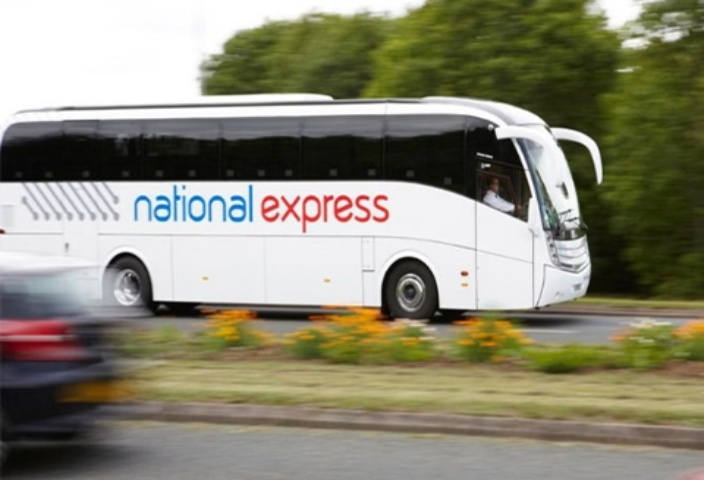bus: (5, 103, 606, 331)
